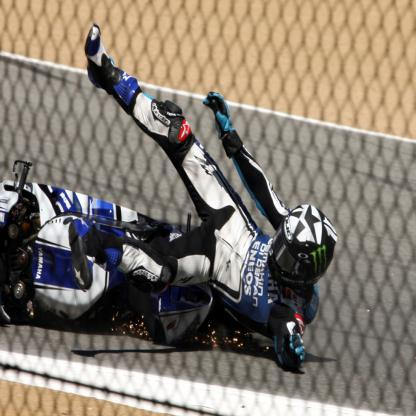motorcycle: (0, 158, 213, 343)
